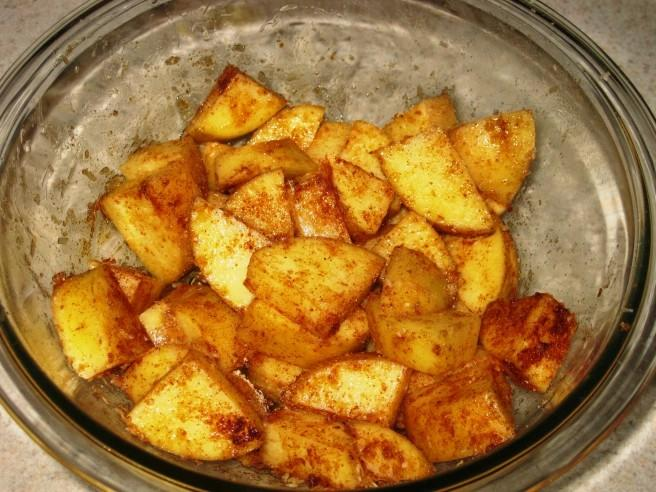AlooMasala: (52, 62, 577, 492)
